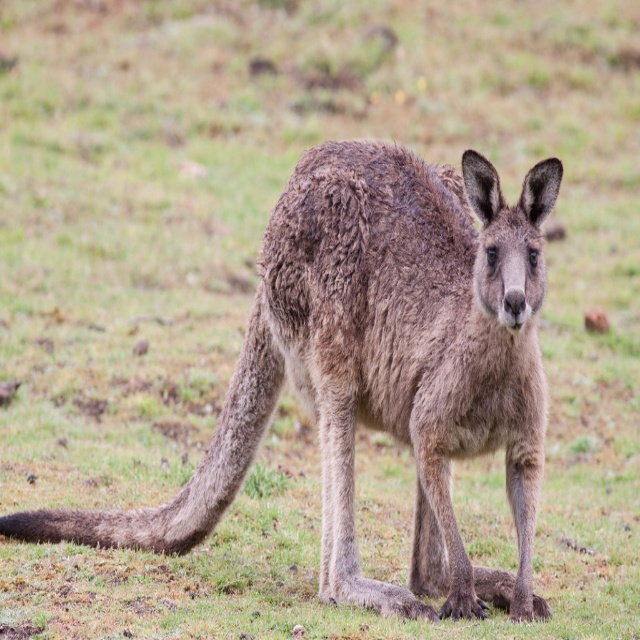Kangaroo: (0, 139, 564, 623)
